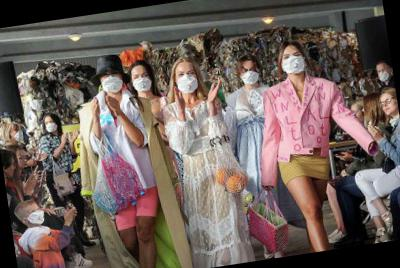with_mask: (174, 68, 201, 96), (280, 49, 306, 77), (99, 70, 125, 96), (130, 71, 154, 94), (238, 64, 261, 88), (26, 206, 47, 228), (375, 67, 391, 83), (44, 119, 59, 136), (14, 127, 24, 143)
without_mask: (380, 96, 397, 118), (7, 160, 19, 181), (18, 153, 30, 171)
